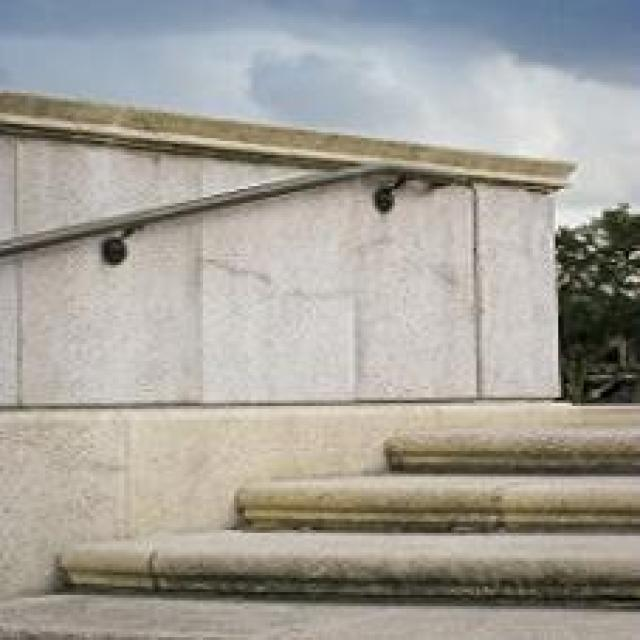upstair: (63, 348, 638, 610)
